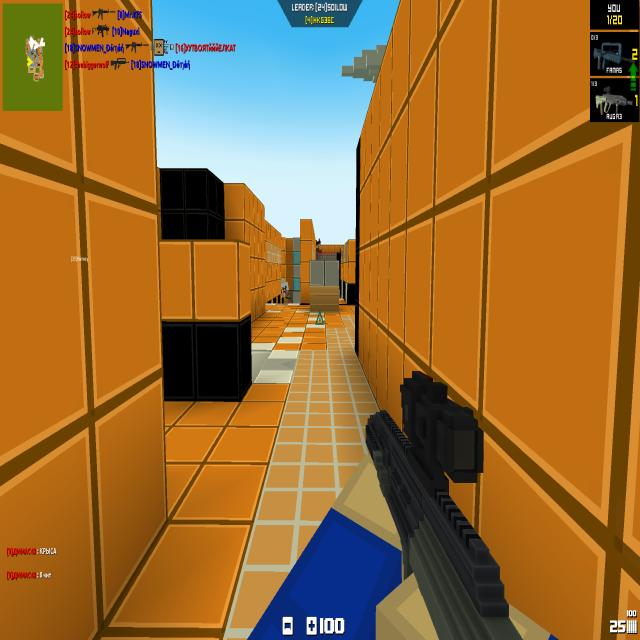enemy: (280, 282, 291, 304), (316, 238, 322, 252)
